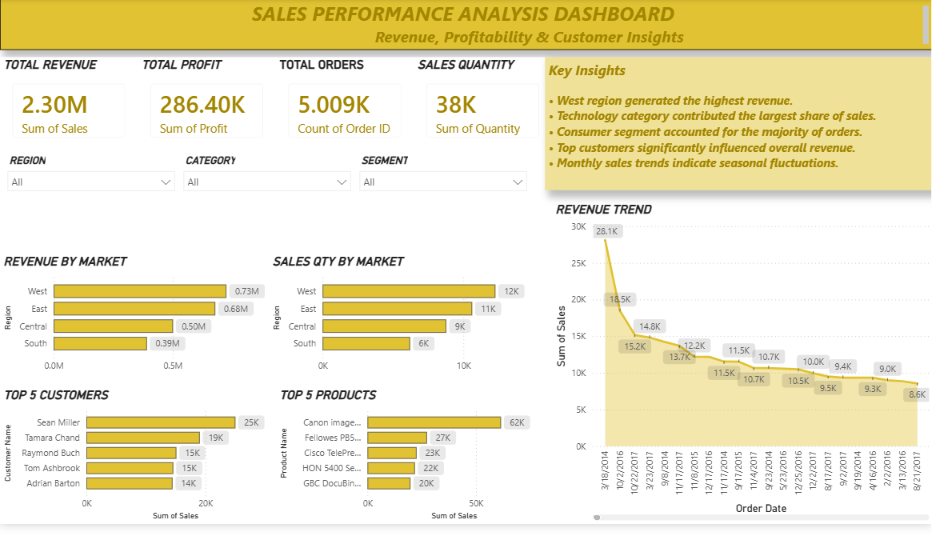

The dashboard page shown, as its layout file describes it:
{"tool":"powerbi","page":{"name":"Page 1","canvas":[1280,720],"ordinal":0},"visuals":[{"type":"textbox","box":[0,0,1280.3,70],"z":0},{"type":"cardVisual","title":"TOTAL REVENUE","fields":{"Data":["Sum(Dataset CSV.Sales)"]},"box":[0,79.6,189.4,127.6],"z":1},{"type":"cardVisual","title":"TOTAL PROFIT","fields":{"Data":["Sum(Dataset CSV.Profit)"]},"box":[189.4,79.6,189.4,127.6],"z":2},{"type":"cardVisual","title":"TOTAL ORDERS","fields":{"Data":["Count(Dataset CSV.Order ID)"]},"box":[378.7,79.6,189.4,127.6],"z":3},{"type":"cardVisual","title":"SALES QUANTITY","fields":{"Data":["Sum(Dataset CSV.Quantity)"]},"box":[568.1,79.6,189.4,127.6],"z":4},{"type":"slicer","fields":{"Values":["Dataset CSV.Region"]},"box":[0,207.2,250,142.7],"z":5},{"type":"slicer","fields":{"Values":["Dataset CSV.Category"]},"box":[241.5,207.2,250,142.7],"z":6},{"type":"slicer","fields":{"Values":["Dataset CSV.Segment"]},"box":[483,207.2,250,142.7],"z":7},{"type":"clusteredBarChart","title":"REVENUE BY MARKET","fields":{"Category":["Dataset CSV.Region"],"Y":["Sum(Dataset CSV.Sales)"]},"box":[0,349.9,378.7,171.5],"z":8},{"type":"clusteredBarChart","title":"SALES QTY BY MARKET","fields":{"Category":["Dataset CSV.Region"],"Y":["Sum(Dataset CSV.Quantity)"]},"box":[369.1,349.9,378.7,171.5],"z":9},{"type":"lineChart","title":"REVENUE TREND","fields":{"Category":["Dataset CSV.Order Date"],"Y":["Sum(Dataset CSV.Sales)"]},"box":[757.5,278.6,522.8,441.9],"z":10},{"type":"clusteredBarChart","title":"TOP 5 CUSTOMERS","fields":{"Category":["Dataset CSV.Customer Name"],"Y":["Sum(Dataset CSV.Sales)"]},"box":[0,532.4,378.7,188],"z":11},{"type":"clusteredBarChart","title":"TOP 5 PRODUCTS","fields":{"Category":["Dataset CSV.Product Name"],"Y":["Sum(Dataset CSV.Sales)"]},"box":[378.7,532.4,378.7,188],"z":12},{"type":"textbox","box":[747.9,79.6,532.4,182.5],"z":13}]}

Visuals, with their boxes in screenshot pixels (x1, y1, x2, y2), scaled from the page's 1280x720 canvas onto the 932x537 screenshot:
textbox: <region>0, 0, 931, 52</region>
"TOTAL REVENUE" cardVisual: <region>0, 59, 138, 155</region>
"TOTAL PROFIT" cardVisual: <region>138, 59, 276, 155</region>
"TOTAL ORDERS" cardVisual: <region>276, 59, 414, 155</region>
"SALES QUANTITY" cardVisual: <region>414, 59, 552, 155</region>
slicer - Dataset CSV.Region: <region>0, 155, 182, 261</region>
slicer - Dataset CSV.Category: <region>176, 155, 358, 261</region>
slicer - Dataset CSV.Segment: <region>352, 155, 534, 261</region>
"REVENUE BY MARKET" clusteredBarChart: <region>0, 261, 276, 389</region>
"SALES QTY BY MARKET" clusteredBarChart: <region>269, 261, 544, 389</region>
"REVENUE TREND" lineChart: <region>552, 208, 931, 536</region>
"TOP 5 CUSTOMERS" clusteredBarChart: <region>0, 397, 276, 536</region>
"TOP 5 PRODUCTS" clusteredBarChart: <region>276, 397, 551, 536</region>
textbox: <region>545, 59, 931, 195</region>
